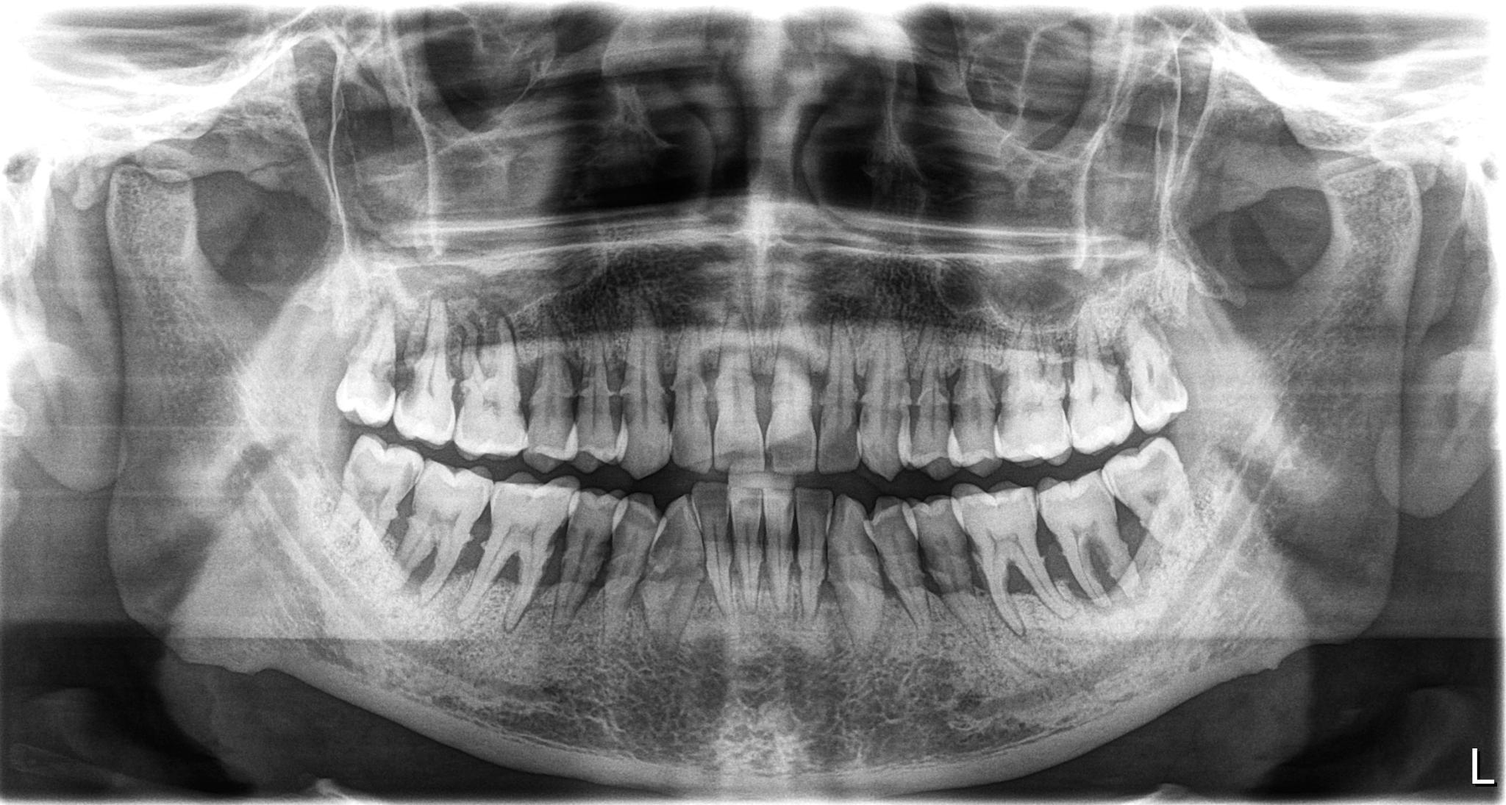Dental Caries: (379, 357, 418, 398)
Impacted Third Molar: (1109, 456, 1202, 559), (344, 437, 405, 556)
Periapical Abnormality: (381, 504, 507, 587), (1024, 526, 1129, 612)
